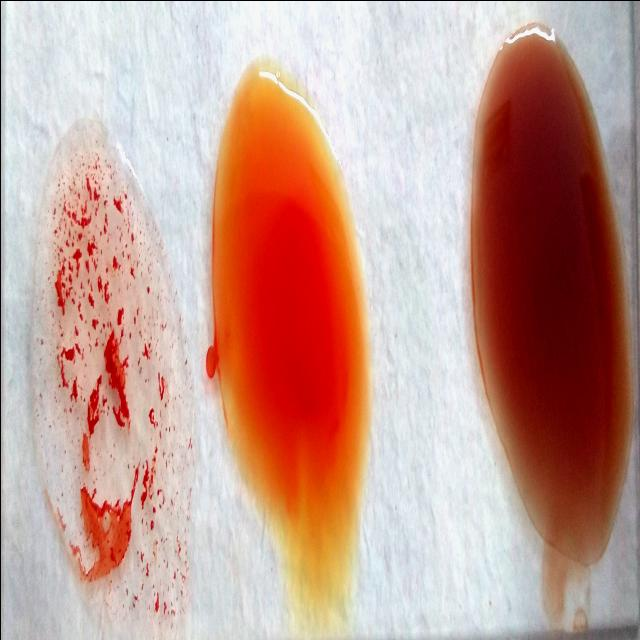D: (29, 144, 182, 616)
